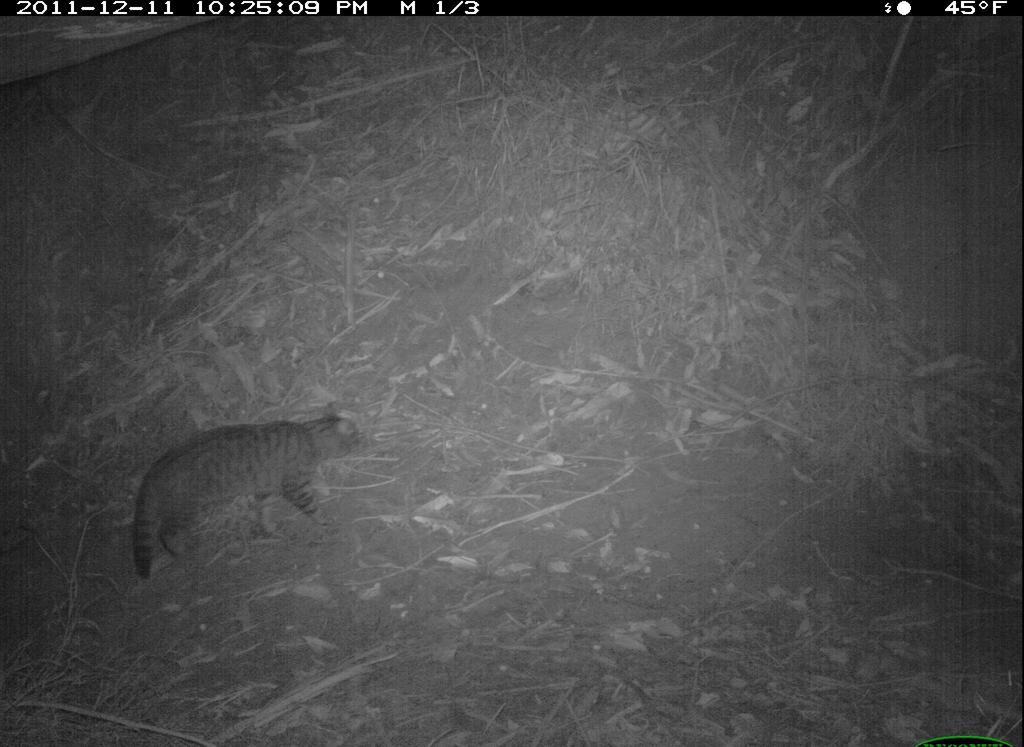cat: (129, 399, 372, 591)
